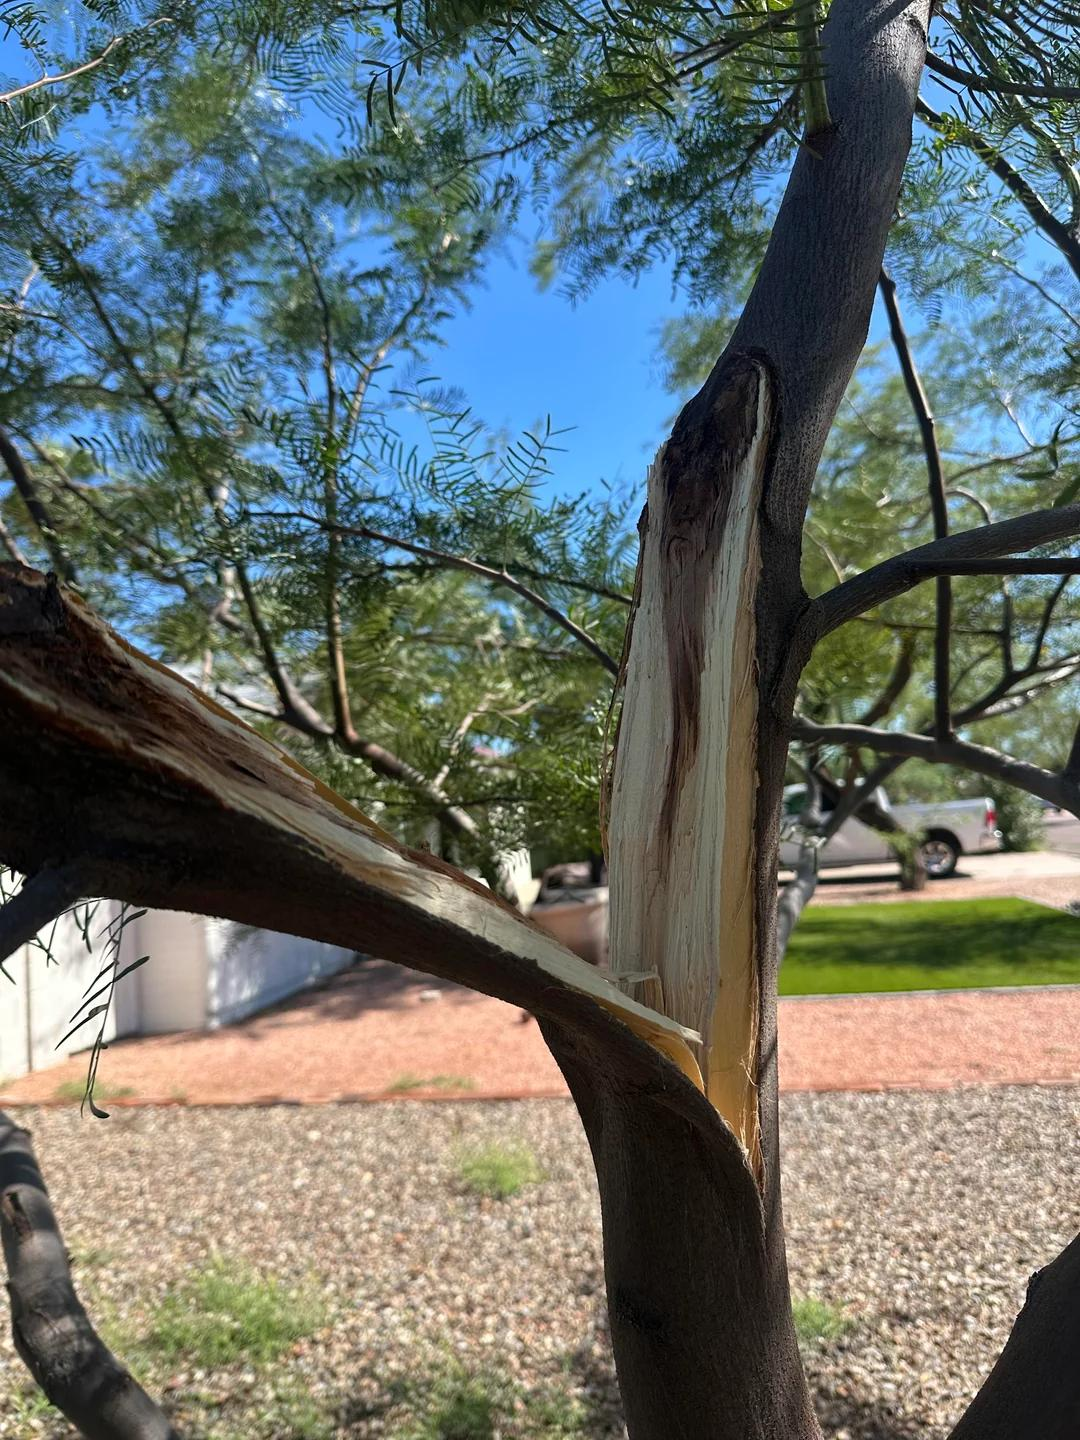mechanical damage: (10, 570, 697, 1084), (609, 351, 774, 1167)
